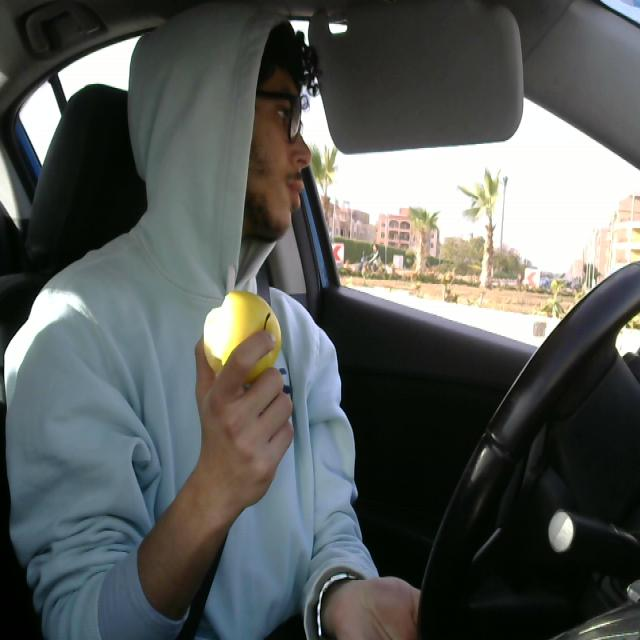eating: (197, 285, 282, 385)
